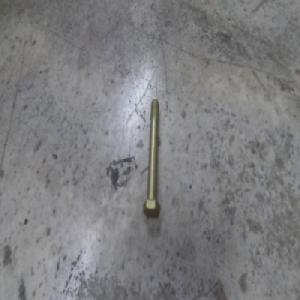Bolt: (143, 98, 161, 219)
